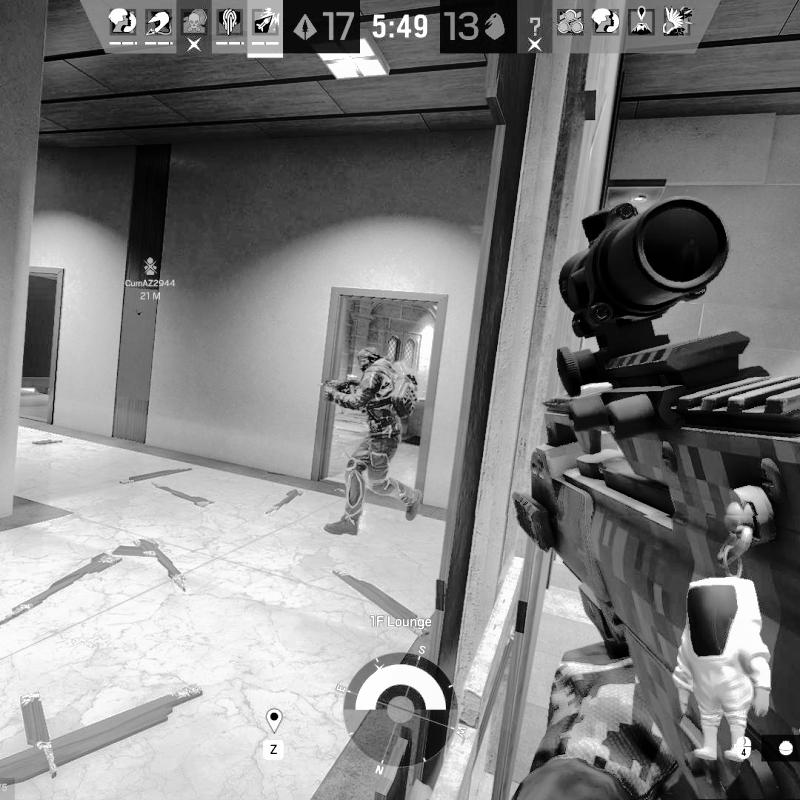Character: (322, 344, 424, 537)
Head: (356, 345, 382, 372)
